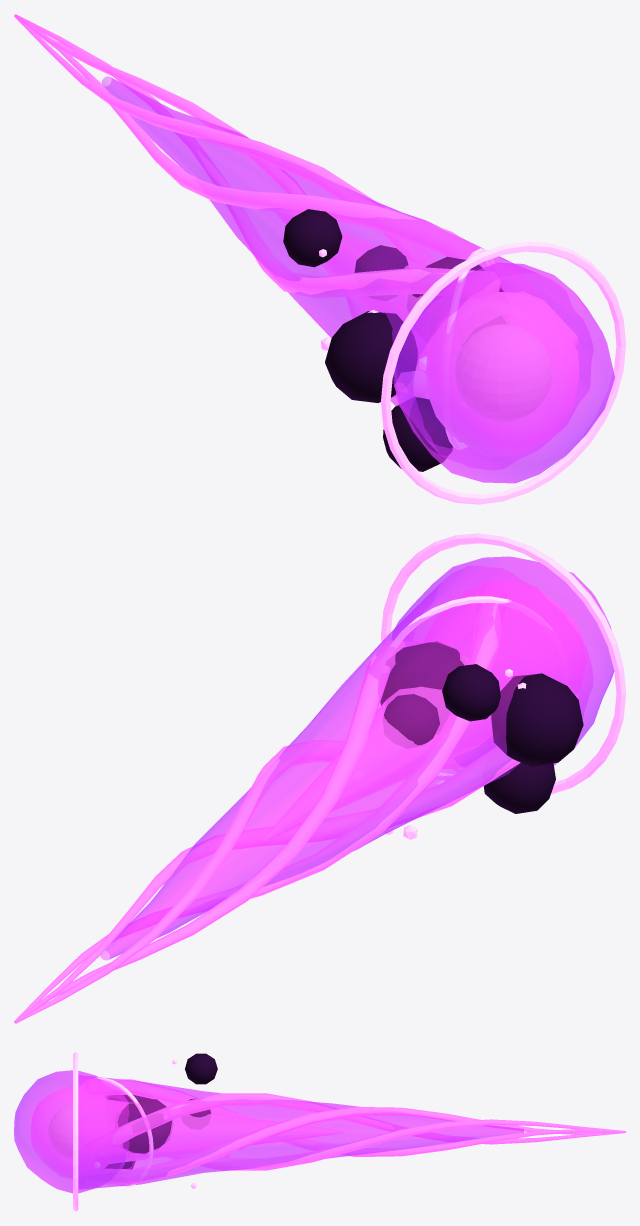
Rendered from VESPERA_shadowbolt_vfx.fbx.
The picture shows the model from 3 angles, top to bottom: view 1: azimuth 30°, elevation 25°; view 2: azimuth 150°, elevation 25°; view 3: azimuth 270°, elevation 25°; orthographic projection. The views are drawn at different scales.
Parts seen in each view (by area): view 1: VESPERA_shadowbolt_vfx; view 2: VESPERA_shadowbolt_vfx; view 3: VESPERA_shadowbolt_vfx.
Boxes of the visible parts, left/top/right/bottom form: VESPERA_shadowbolt_vfx: left=14, top=14, right=625, bottom=504; VESPERA_shadowbolt_vfx: left=14, top=533, right=625, bottom=1023; VESPERA_shadowbolt_vfx: left=14, top=1052, right=625, bottom=1211.
Size of the model in its own units: 0.3382 by 0.338 by 1.3.
